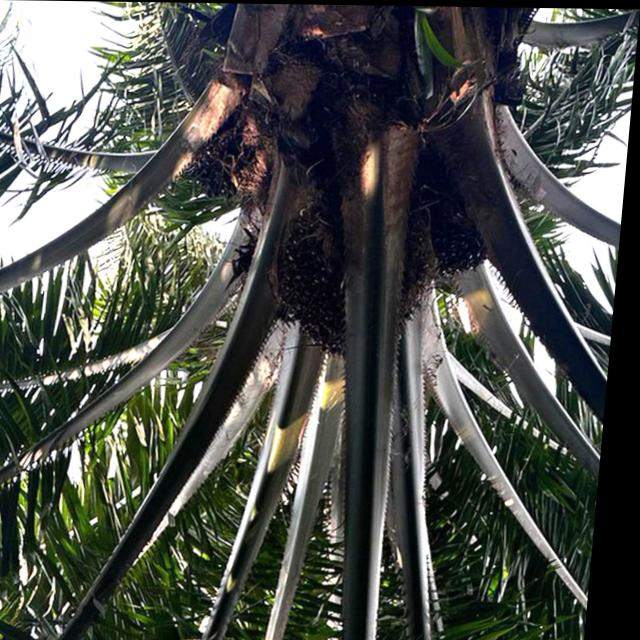unripe: (268, 187, 442, 366), (403, 147, 505, 285), (183, 116, 268, 205)
